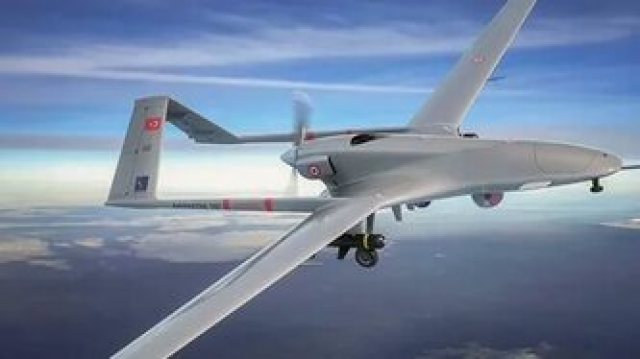military drone: (104, 0, 640, 359)
